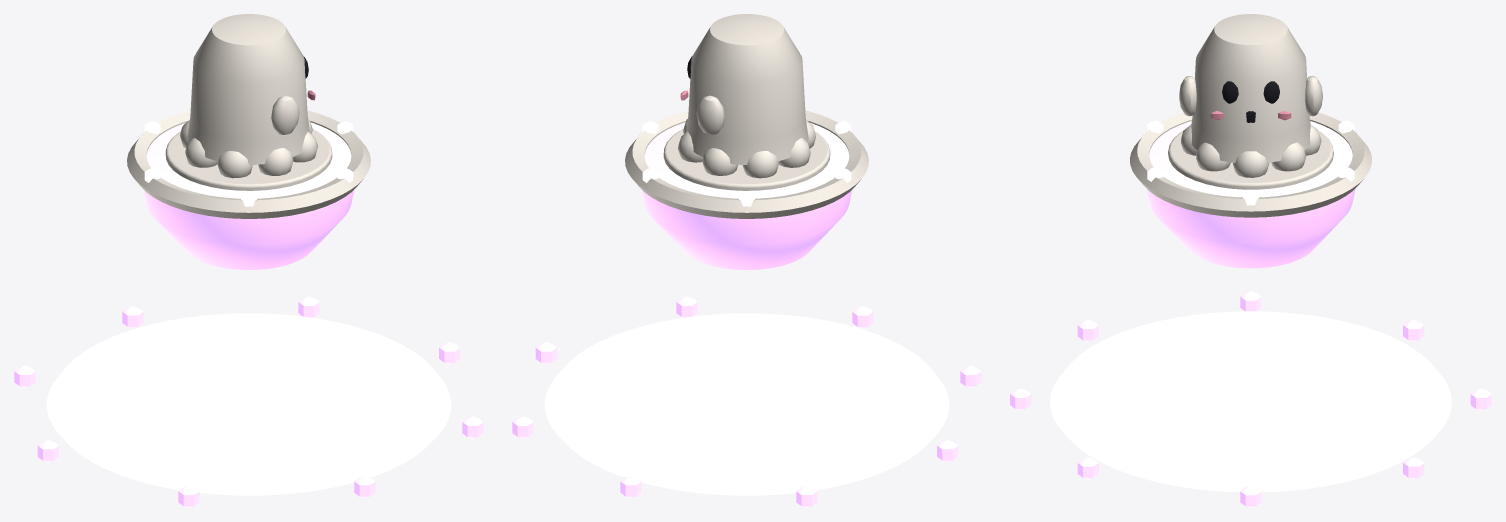
Rendered from pu_ghost.glb.
3 renders of one model, left to right at view 1: azimuth 30°, elevation 25°; view 2: azimuth 150°, elevation 25°; view 3: azimuth 270°, elevation 25°, orthographic.
Visible parts, largest first — view 1: pu_ghost, capsule.001; view 2: pu_ghost, capsule.001; view 3: pu_ghost, capsule.001.
Boxes of the visible parts, x1,y1,x2,y2 form: pu_ghost: (14, 296, 483, 507); capsule.001: (127, 14, 370, 269); pu_ghost: (512, 296, 981, 507); capsule.001: (625, 14, 868, 269); pu_ghost: (1010, 291, 1491, 507); capsule.001: (1130, 14, 1371, 268).
Size of the model in its own units: 1.56 by 1.39 by 1.57.
1 material, 1 textured.
